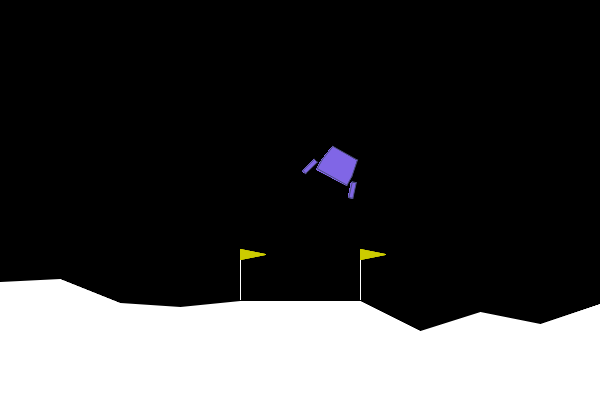lander: (300, 137, 372, 201)
